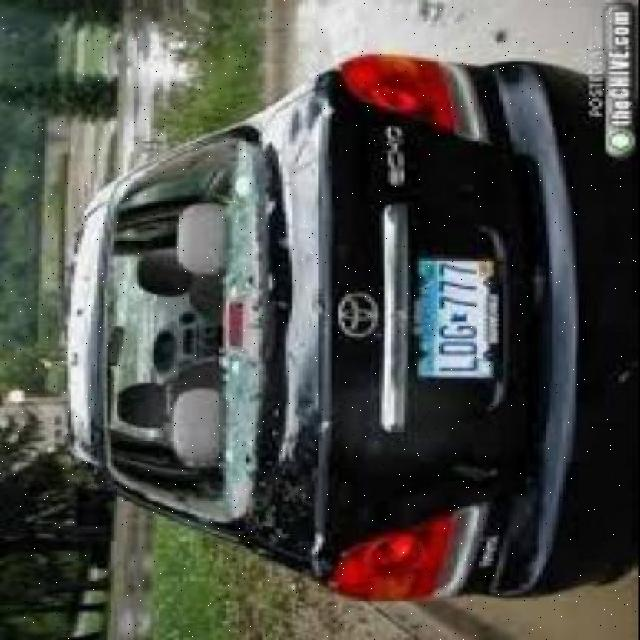damage: (101, 123, 278, 512)
